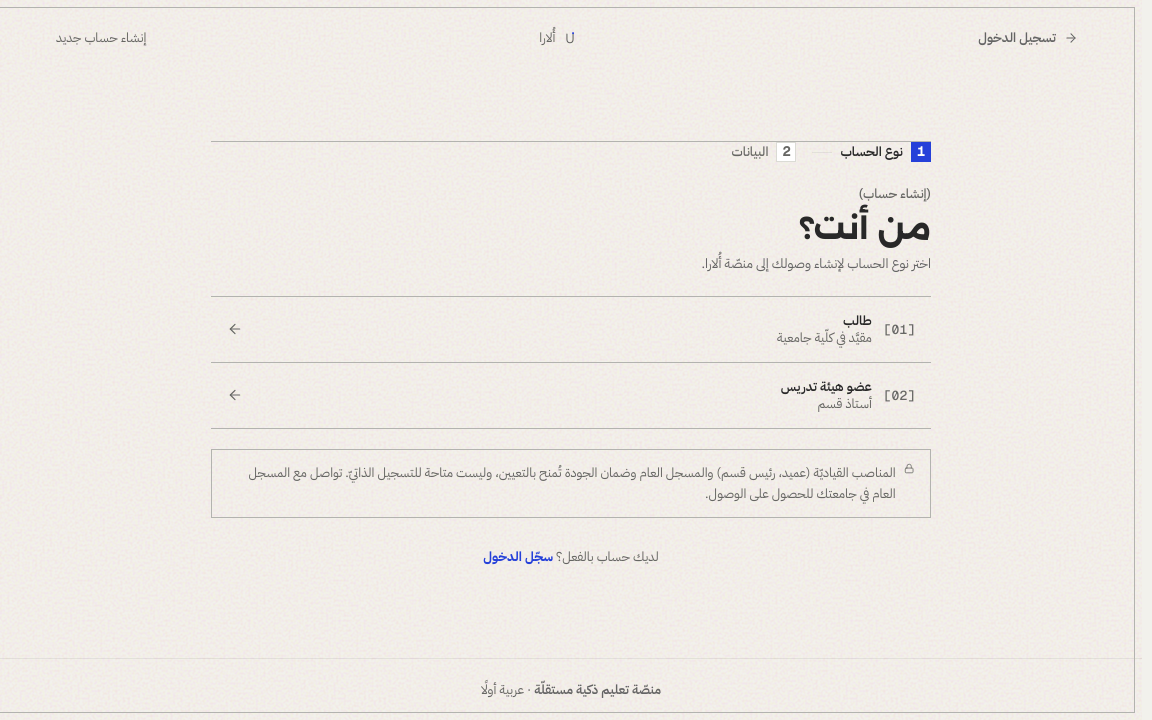
G · RegisterPage — the pending flip is announced (AuthPage parity) › the student submit button carries aria-busy + the sr-only polite mirror while pending
This screenshot has width=1152, height=720.
Click the button "[01] طالب مقيَّد في كلّية جامعية" at (899, 329), box left=211, top=297, right=931, bottom=362
(page scrolled)
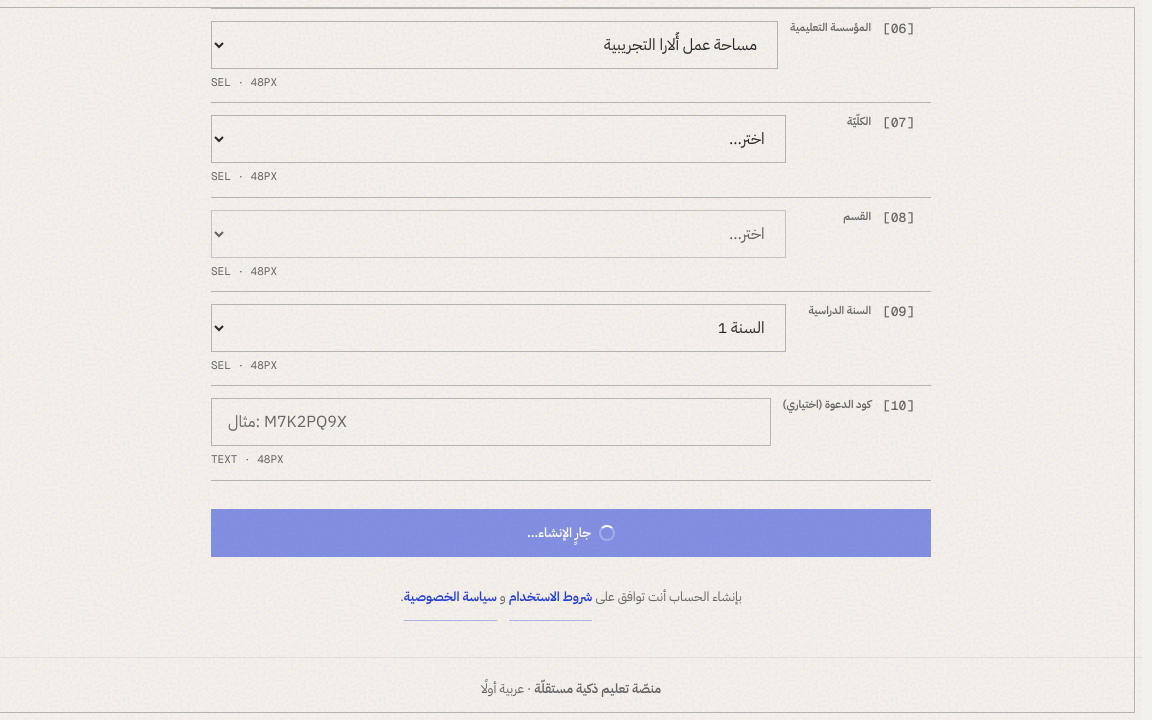
Check: the button "جارٍ الإنشاء…" is disabled, box left=211, top=509, right=931, bottom=557
